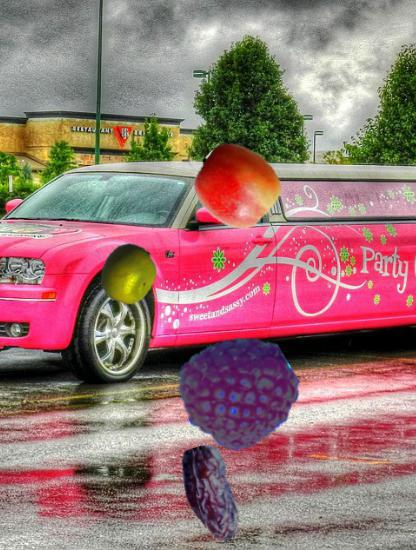Apple: (194, 143, 283, 232)
Dates: (161, 445, 260, 544)
Pomelo: (98, 244, 159, 305)
Raspberry: (181, 334, 296, 449)
